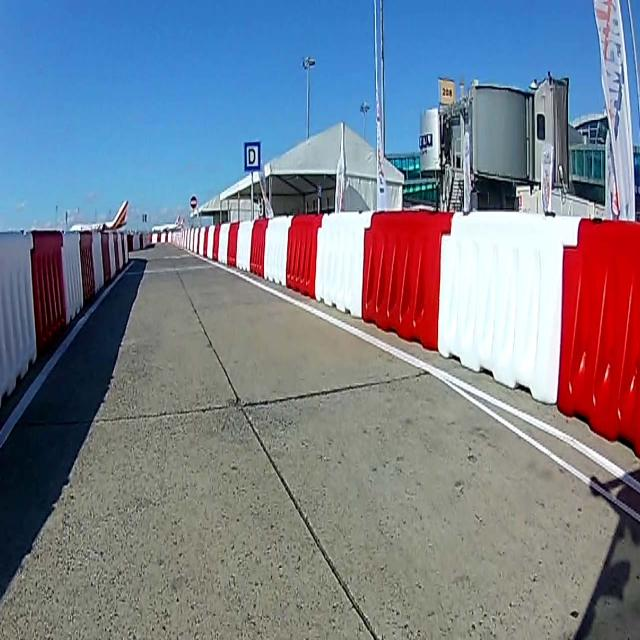durak: (244, 141, 259, 171)
girisyok: (189, 194, 197, 210)
